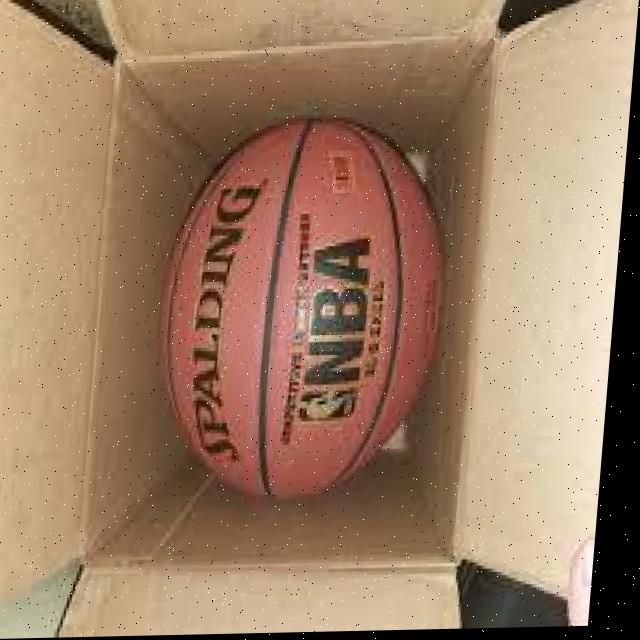Basketball: (147, 116, 461, 505)
